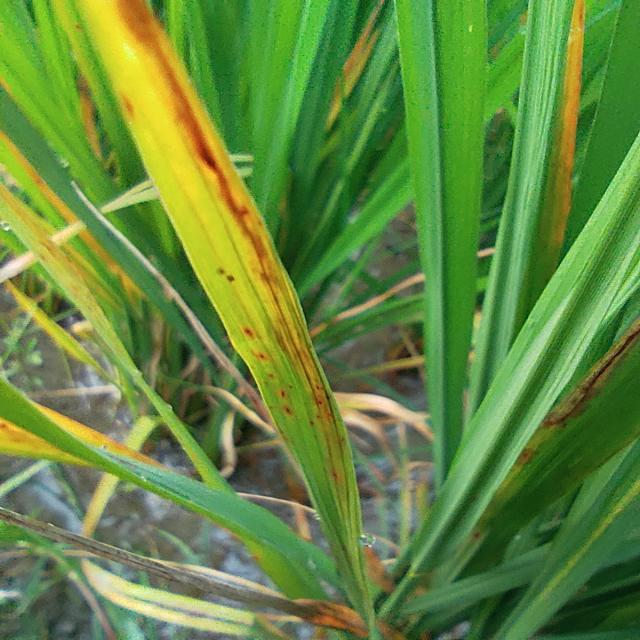Narrow_Brown_Leaf_Spot: (117, 0, 355, 474)
